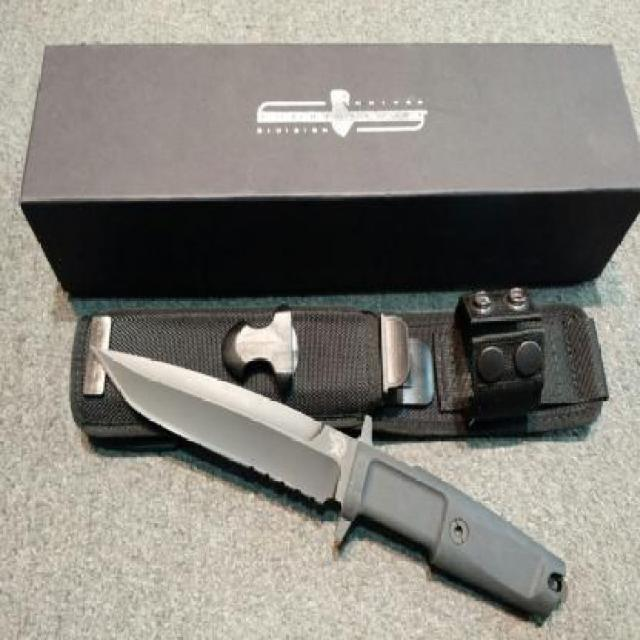-: (76, 331, 390, 555)
